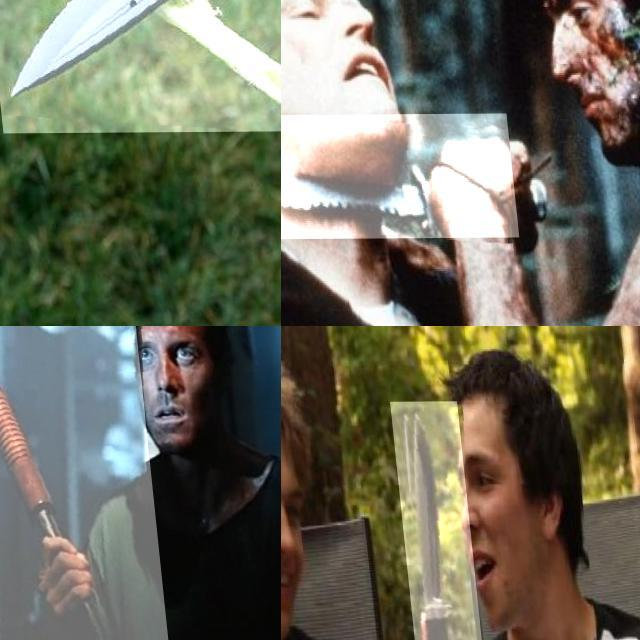-: (0, 0, 281, 192), (281, 113, 512, 240), (388, 401, 482, 640)
gun-knife-thesis - v11 Yolov5 augmented: (0, 326, 167, 640)
